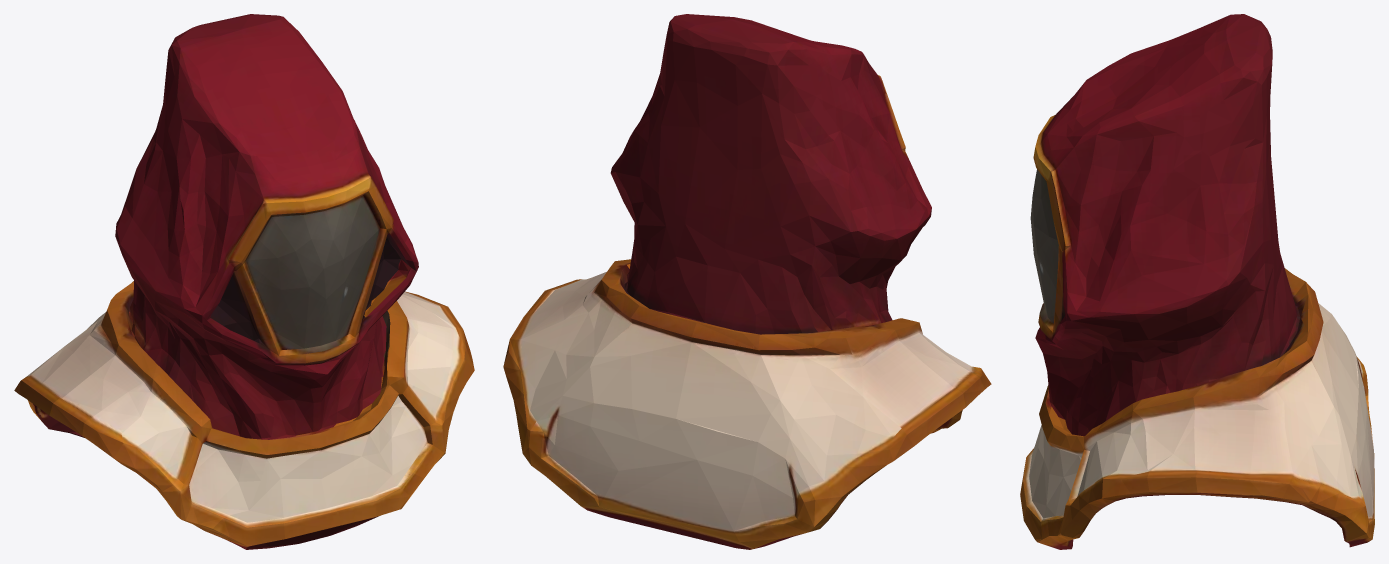
The model's file is dsa_chemist_helm_lo.glb.
The picture shows the model from 3 angles, left to right: view 1: azimuth 30°, elevation 25°; view 2: azimuth 150°, elevation 25°; view 3: azimuth 270°, elevation 25°; orthographic projection. The views are drawn at different scales.
Visible parts, largest first — view 1: tmpv9fsfd1k.ply; view 2: tmpv9fsfd1k.ply; view 3: tmpv9fsfd1k.ply.
Boxes of the visible parts, bbox=[...] form: tmpv9fsfd1k.ply: bbox=[14, 14, 474, 549]; tmpv9fsfd1k.ply: bbox=[503, 14, 991, 549]; tmpv9fsfd1k.ply: bbox=[1020, 14, 1374, 549].
Size of the model in its own units: 1.85 by 2 by 1.32.
1 material, 1 textured.
